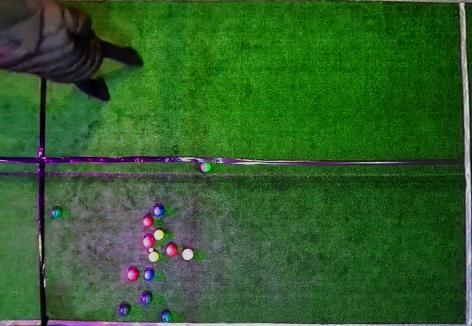blue: (144, 269, 155, 280), (154, 205, 164, 216)
green: (142, 292, 153, 304), (52, 207, 63, 218), (200, 162, 212, 172), (120, 304, 130, 316), (162, 311, 172, 322)
red: (165, 244, 178, 257), (143, 235, 155, 247), (127, 269, 139, 281), (182, 249, 194, 260), (143, 216, 153, 227)
vline: (1, 80, 47, 325), (457, 0, 471, 326)
white: (149, 248, 153, 252)
yellow: (148, 251, 159, 262), (154, 230, 164, 240)
